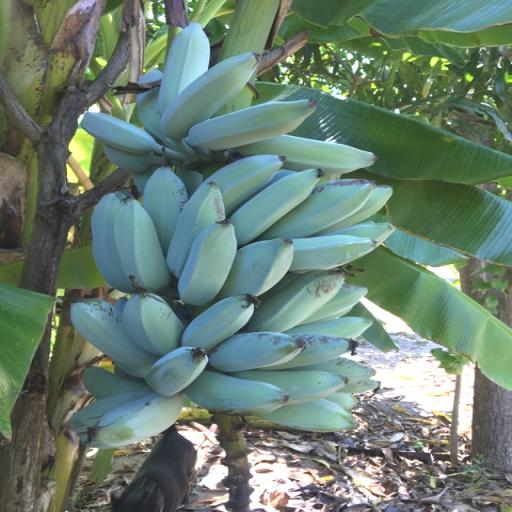banana-unripe: (22, 4, 468, 471)
